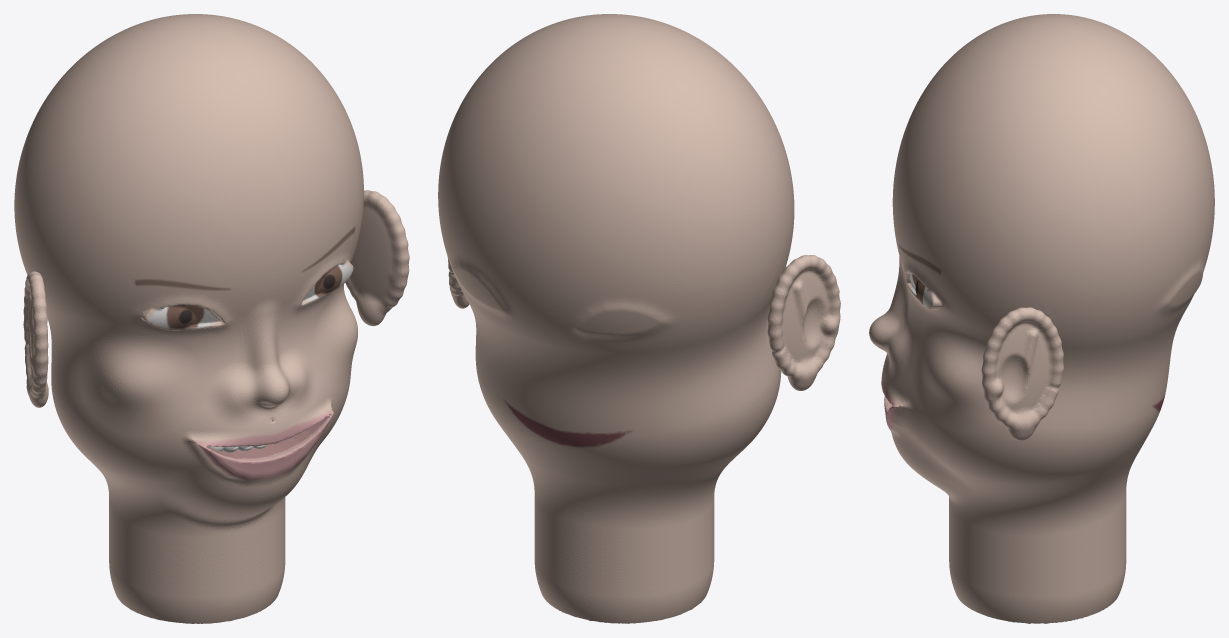
Rendered from karma_face_stage1_N_smile_EXPERIMENT.glb.
3 renders of one model, left to right at view 1: azimuth 30°, elevation 25°; view 2: azimuth 150°, elevation 25°; view 3: azimuth 270°, elevation 25°, orthographic.
Parts seen in each view (by area): view 1: head; view 2: head; view 3: head.
Boxes of the visible parts, <box> form: head: <box>14,14,409,623</box>; head: <box>438,14,840,623</box>; head: <box>869,14,1214,623</box>.
Size of the model in its own units: 2.7 by 3.83 by 2.15.
